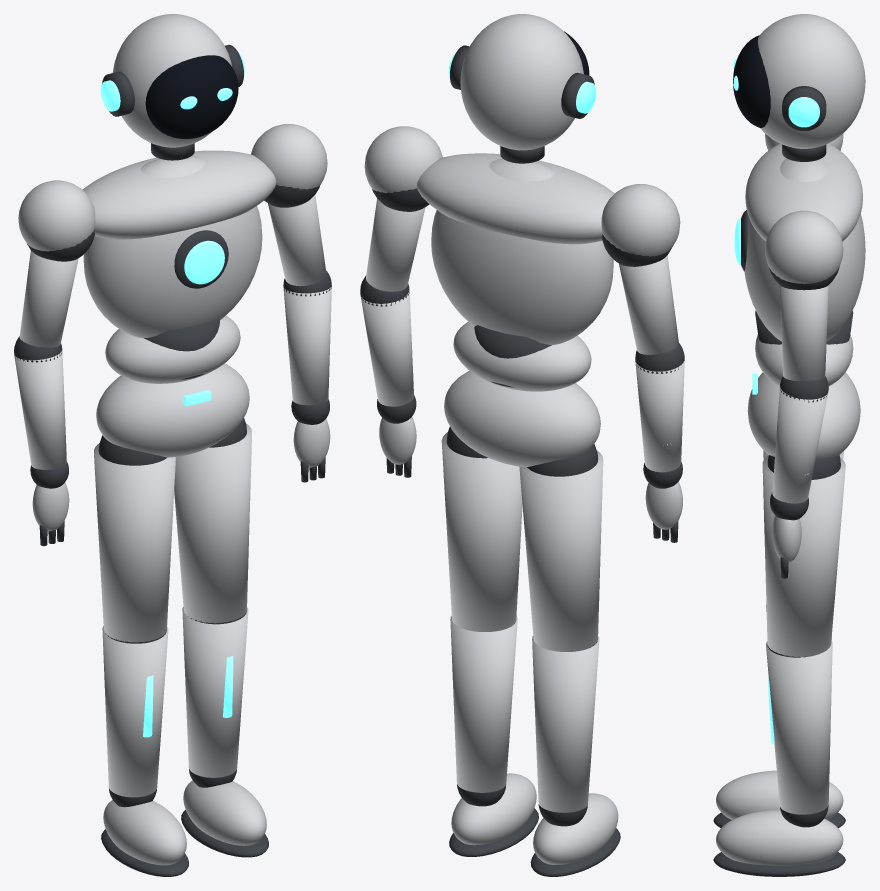
The model's file is robot.glb.
3 renders of one model, left to right at view 1: azimuth 30°, elevation 25°; view 2: azimuth 150°, elevation 25°; view 3: azimuth 270°, elevation 25°, orthographic. The views are drawn at different scales.
Parts seen in each view (by area): view 1: Robot_Chest, Robot_Thigh_R, Robot_Thigh_L, Robot_Shoulder_Plate, Robot_Pelvis, Robot_Shin_R, Robot_Shin_L, Robot_Head, Robot_Visor, Robot_Abdomen, Robot_Forearm_L, Robot_Forearm_R (+20 smaller); view 2: Robot_Chest, Robot_Thigh_R, Robot_Head, Robot_Thigh_L, Robot_Shoulder_Plate, Robot_Pelvis, Robot_Shin_L, Robot_Shin_R, Robot_Abdomen, Robot_Shoulder_Cap_R, Robot_Forearm_L, Robot_Forearm_R (+17 smaller); view 3: Robot_Thigh_L, Robot_Head, Robot_Shin_L, Robot_Shoulder_Plate, Robot_Chest, Robot_Foot_L, Robot_Shoulder_Cap_L, Robot_Forearm_L, Robot_Pelvis, Robot_Upper_Arm_L, Robot_Foot_R, Robot_Visor (+14 smaller).
Part boxes in pixels (x1=…): Robot_Chest: x1=83, y1=155, x2=262, y2=338; Robot_Thigh_R: x1=94, y1=443, x2=175, y2=642; Robot_Thigh_L: x1=174, y1=423, x2=251, y2=623; Robot_Shoulder_Plate: x1=82, y1=150, x2=276, y2=239; Robot_Pelvis: x1=96, y1=363, x2=249, y2=457; Robot_Shin_R: x1=102, y1=626, x2=168, y2=797; Robot_Shin_L: x1=182, y1=607, x2=248, y2=777; Robot_Head: x1=112, y1=14, x2=231, y2=147; Robot_Visor: x1=145, y1=55, x2=238, y2=138; Robot_Abdomen: x1=105, y1=315, x2=240, y2=383; Robot_Forearm_L: x1=283, y1=286, x2=331, y2=405; Robot_Forearm_R: x1=14, y1=350, x2=66, y2=469; Robot_Chest: x1=431, y1=158, x2=613, y2=344; Robot_Thigh_R: x1=519, y1=450, x2=603, y2=651; Robot_Head: x1=460, y1=14, x2=583, y2=150; Robot_Thigh_L: x1=441, y1=432, x2=522, y2=631; Robot_Shoulder_Plate: x1=417, y1=153, x2=614, y2=244; Robot_Pelvis: x1=444, y1=371, x2=600, y2=466; Robot_Shin_L: x1=450, y1=616, x2=517, y2=792; Robot_Shin_R: x1=532, y1=636, x2=599, y2=812; Robot_Abdomen: x1=453, y1=322, x2=591, y2=391; Robot_Shoulder_Cap_R: x1=601, y1=184, x2=680, y2=256; Robot_Forearm_L: x1=360, y1=289, x2=413, y2=406; Robot_Forearm_R: x1=635, y1=361, x2=684, y2=472; Robot_Thigh_L: x1=762, y1=455, x2=845, y2=657; Robot_Head: x1=758, y1=14, x2=865, y2=148; Robot_Shin_L: x1=766, y1=640, x2=832, y2=814; Robot_Shoulder_Plate: x1=745, y1=143, x2=862, y2=241; Robot_Chest: x1=744, y1=158, x2=865, y2=341; Robot_Foot_L: x1=716, y1=810, x2=843, y2=865; Robot_Shoulder_Cap_L: x1=765, y1=210, x2=843, y2=283; Robot_Forearm_L: x1=772, y1=387, x2=828, y2=503; Robot_Pelvis: x1=747, y1=372, x2=860, y2=460; Robot_Upper_Arm_L: x1=779, y1=285, x2=828, y2=381; Robot_Foot_R: x1=716, y1=770, x2=843, y2=819; Robot_Visor: x1=733, y1=35, x2=770, y2=127.
Bounding box in the file's own units: 2.92 × 7.37 × 1.22.
